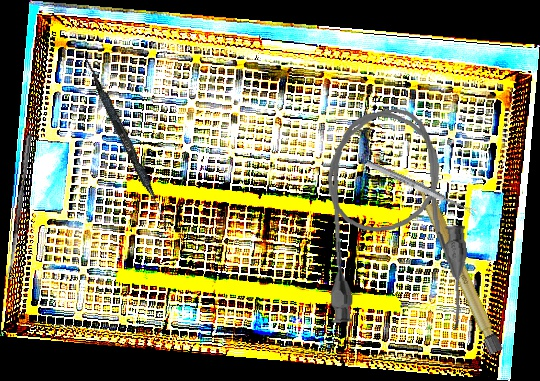Cannula: (317, 104, 473, 339)
Scalpel Handle: (413, 178, 504, 355)
Spatula Surgical: (77, 54, 176, 231)
Surgical Spoon: (364, 159, 478, 217), (5, 132, 33, 280)
